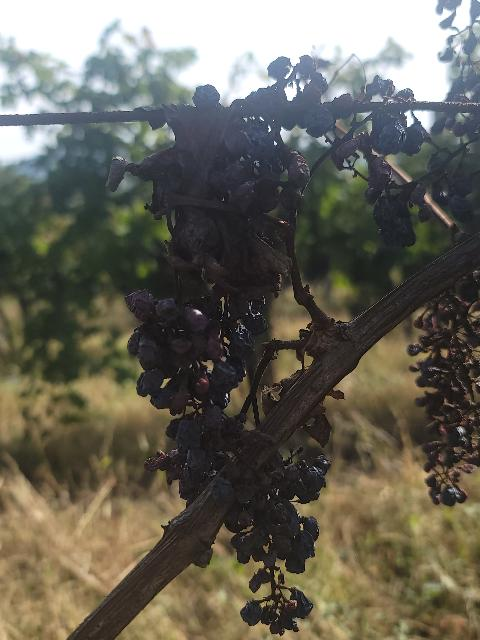grapes: (220, 451, 330, 634), (145, 405, 250, 502)
